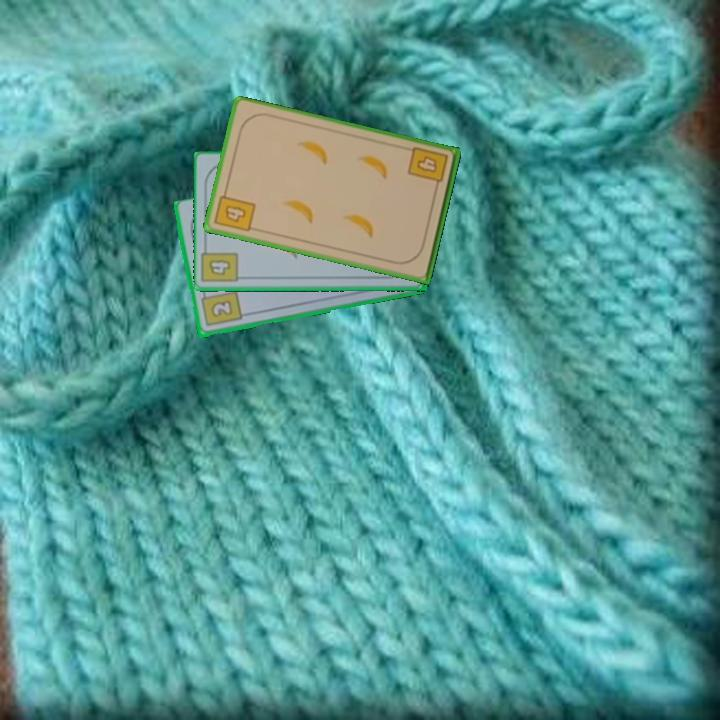2b: (197, 287, 244, 330)
4b: (404, 143, 451, 193), (211, 186, 258, 235), (205, 256, 233, 278)
